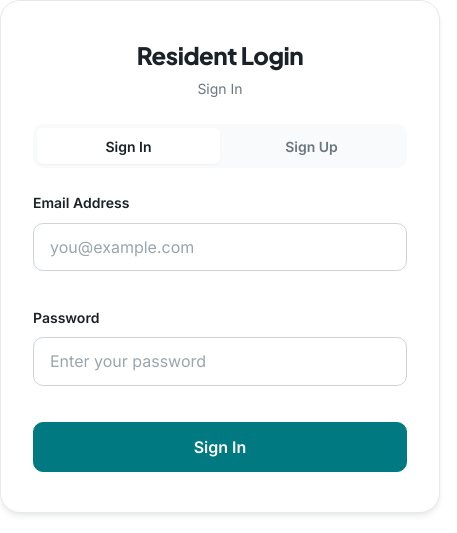
it: LoginPage › shows loading state during signin
Type "test@example.com" into the field labelled "Email Address".
click(220, 247); type("test@example.com")  # box [33,223,407,271]
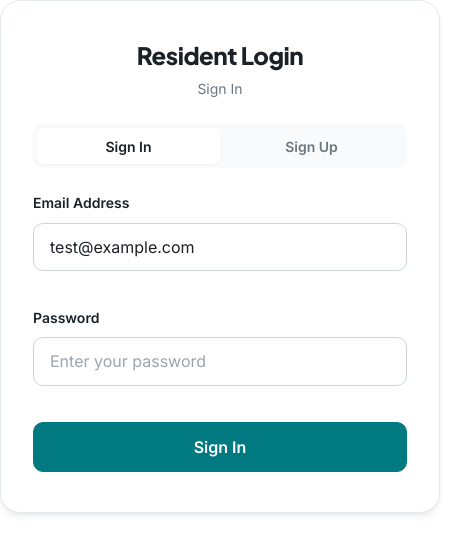
Type "password123" into the password field labelled "Password".
click(220, 362); type("password123")  # box [33,337,407,386]
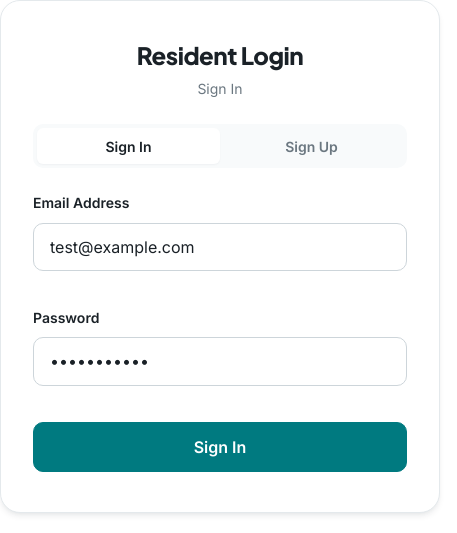
Click the button "Sign In" below "Password".
click(220, 447)  # box [33,422,407,472]
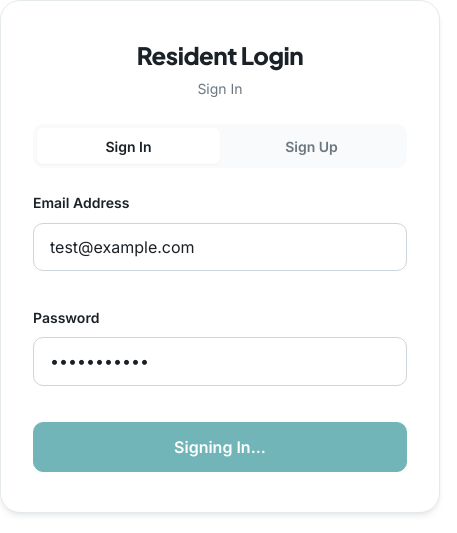
Now the button "Signing In..." is shown, box [33,422,407,472]
